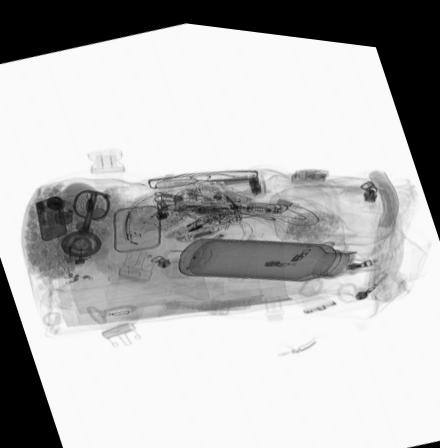Lighter: (172, 222, 216, 237)
